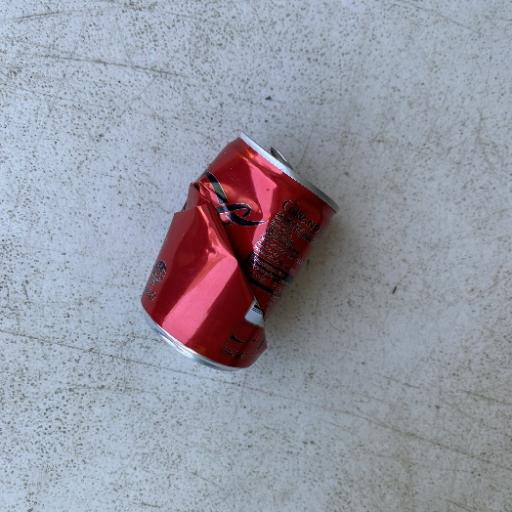Metal: (138, 131, 340, 373)
